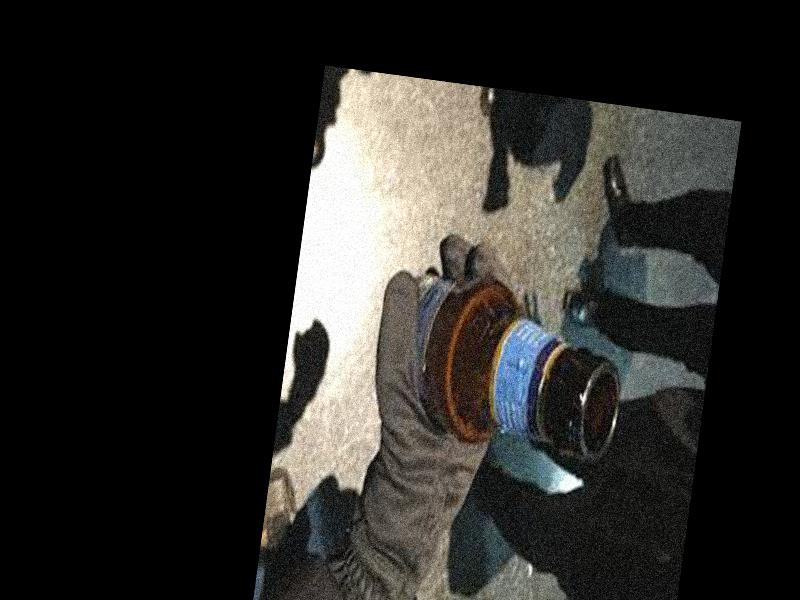Beer: (379, 259, 634, 467)
